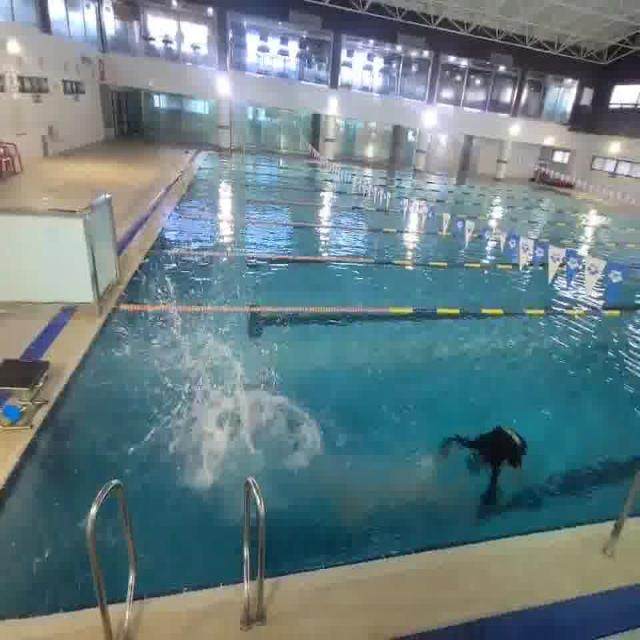Drowning: (429, 401, 547, 522)
